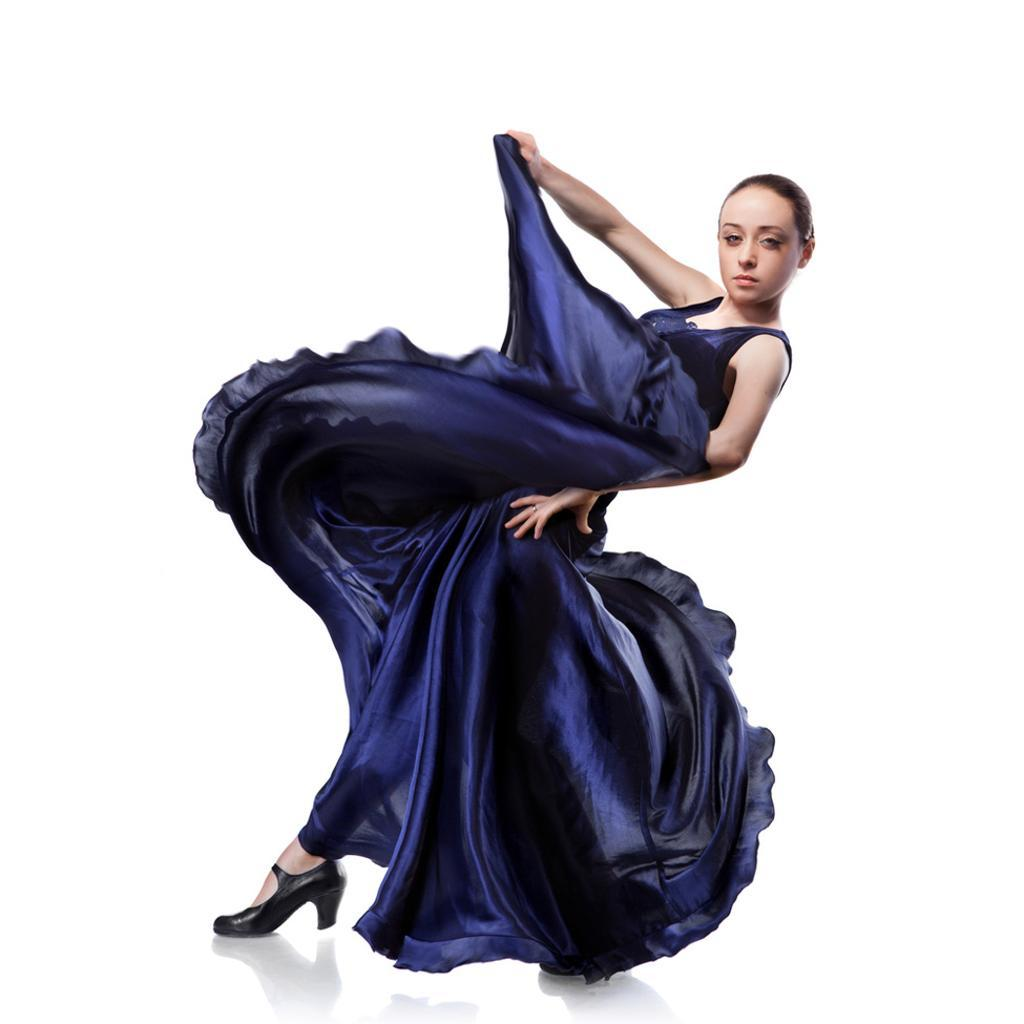face: (725, 183, 799, 305)
